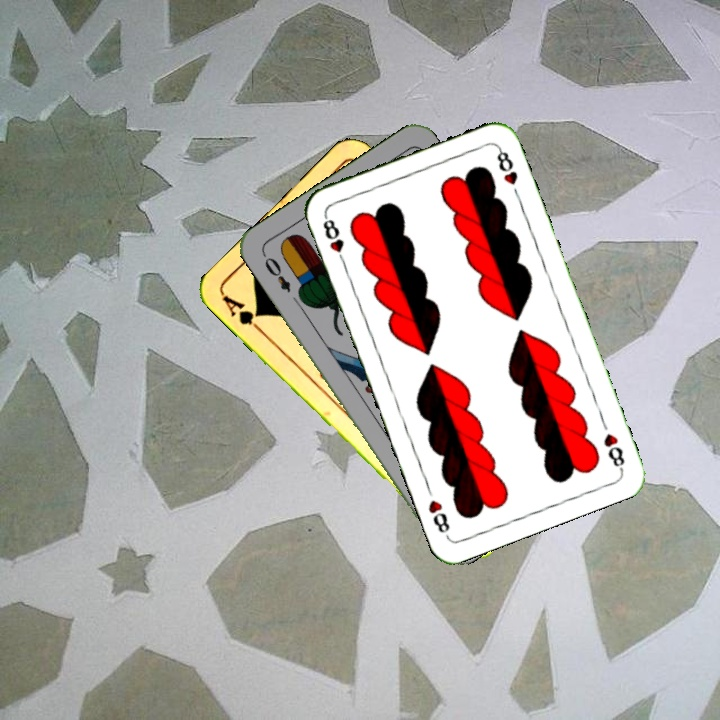EO: (258, 249, 294, 295)
GA: (218, 290, 266, 336)
H8: (319, 211, 349, 268), (599, 429, 628, 473)
